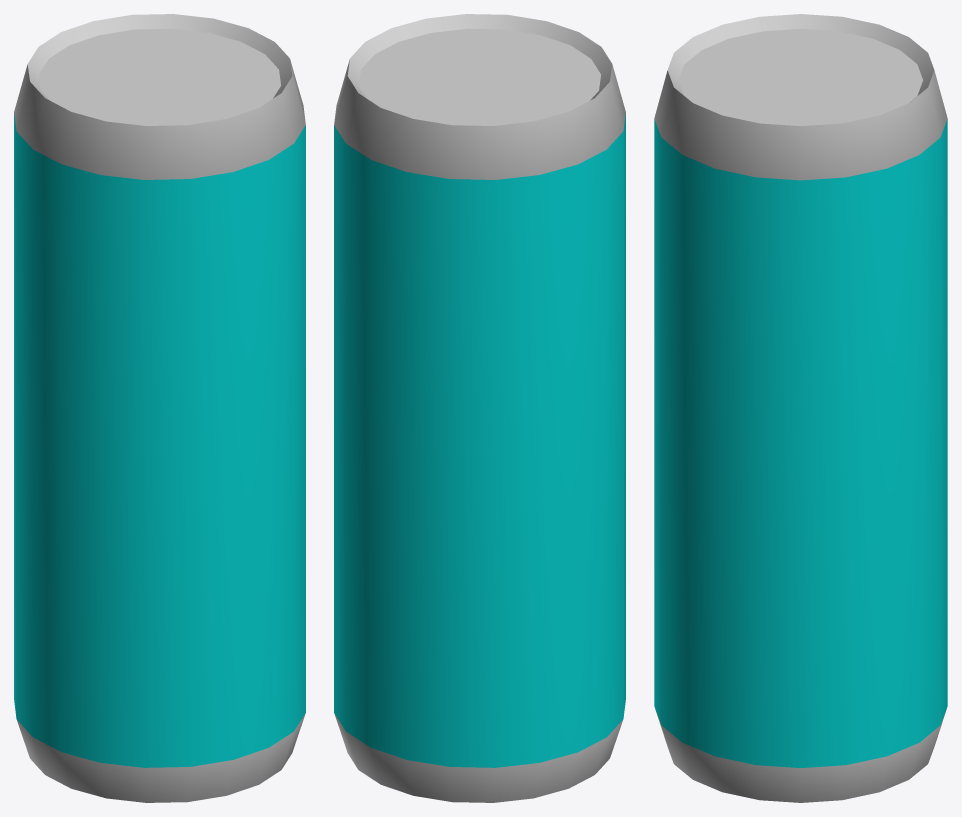
File: Item_RadioactiveDrink1.fbx
3 views of the same model, side by side, from view 1: azimuth 30°, elevation 25°; view 2: azimuth 150°, elevation 25°; view 3: azimuth 270°, elevation 25° (orthographic).
Visible parts, largest first — view 1: pCylinder1; view 2: pCylinder1; view 3: pCylinder1.
Boxes of the visible parts, bbox=[...] form: pCylinder1: bbox=[14, 14, 305, 802]; pCylinder1: bbox=[334, 14, 625, 802]; pCylinder1: bbox=[654, 14, 947, 802].
Bounding box in the file's own units: 52.8 × 134 × 52.8.
